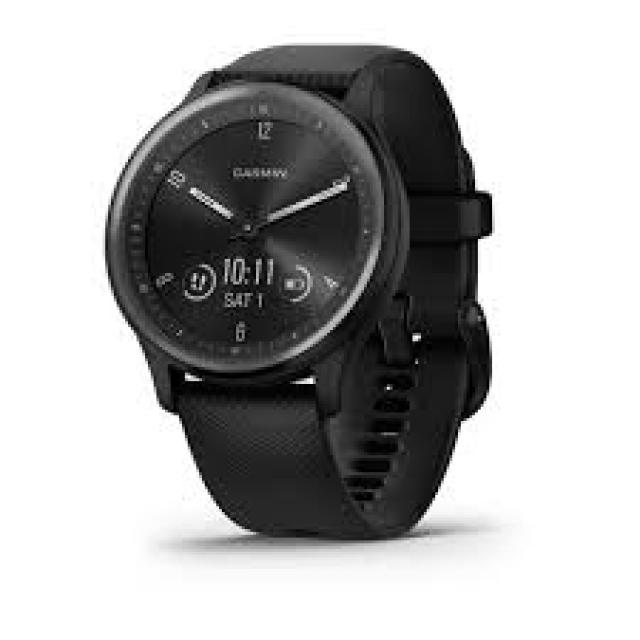objects: (105, 46, 489, 538)
